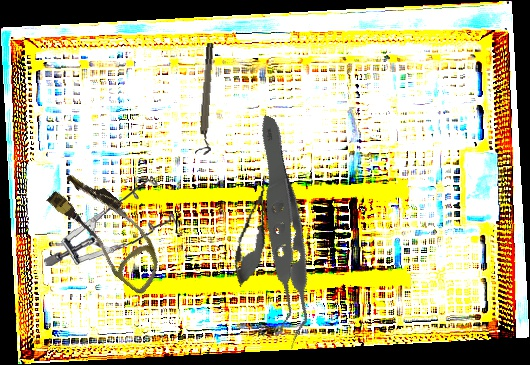Cannula: (36, 164, 180, 297)
Fixation Ring: (195, 42, 220, 156)
Micro Scissor: (227, 172, 280, 290)
Speculum: (43, 168, 180, 275)
Tissue Forceps: (179, 113, 378, 351)
